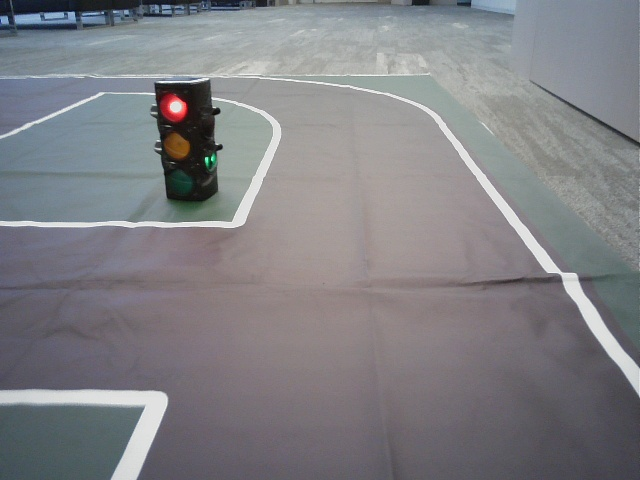red: (159, 87, 195, 194)
